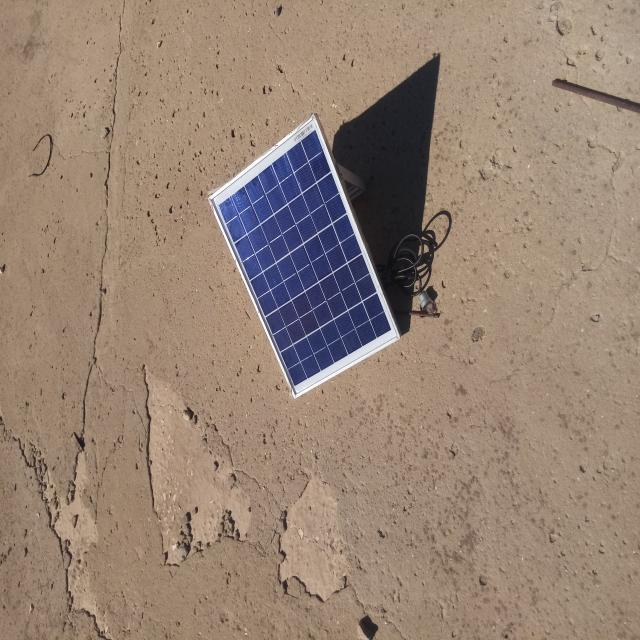no faulty: (212, 117, 398, 398)
